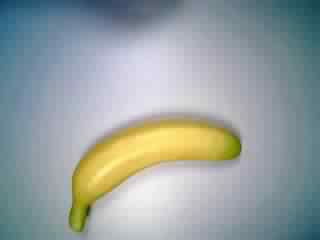banana: (66, 105, 249, 235)
